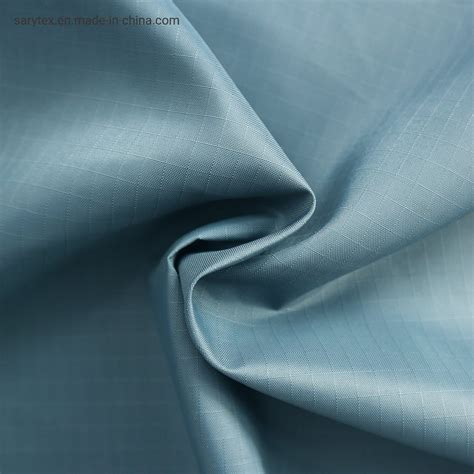nylon: (1, 2, 474, 474)
